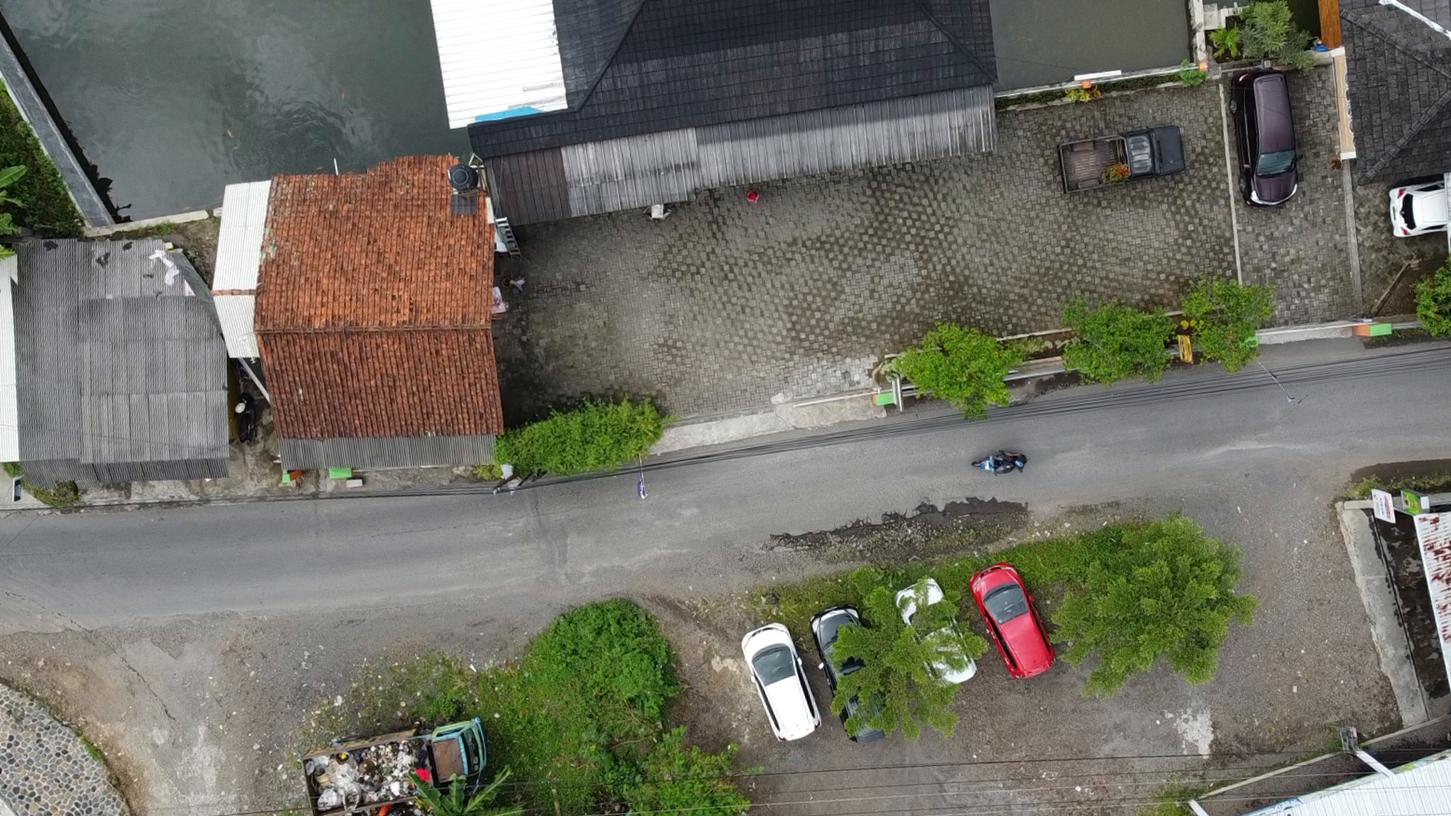mobil: (964, 539, 1072, 691), (1225, 66, 1316, 219), (808, 600, 897, 742), (1050, 121, 1200, 203), (733, 621, 824, 749), (891, 576, 979, 697), (1386, 178, 1444, 242)
